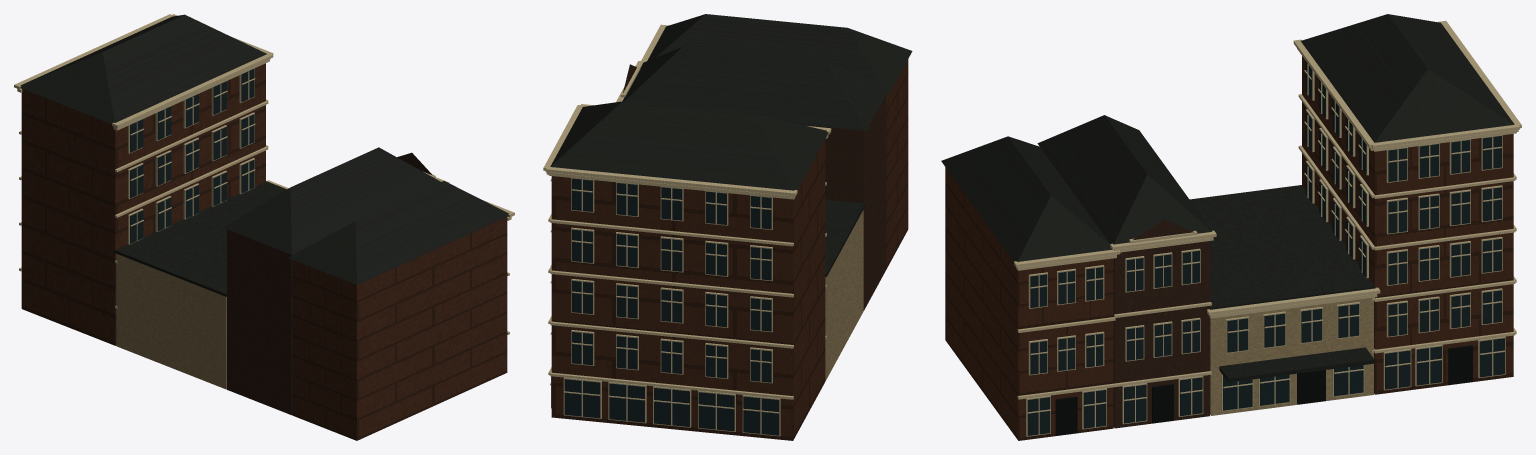
3 renders of one model, left to right at view 1: azimuth 30°, elevation 25°; view 2: azimuth 150°, elevation 25°; view 3: azimuth 270°, elevation 25°, orthographic. The views are drawn at different scales.
Parts seen in each view (by area): view 1: kruiskade-winkelstraat-0, kruiskade-winkelstraat-1, kruiskade-winkelstraat-5, kruiskade-winkelstraat-6, kruiskade-winkelstraat-2, kruiskade-winkelstraat-3; view 2: kruiskade-winkelstraat-0, kruiskade-winkelstraat-1, kruiskade-winkelstraat-3, kruiskade-winkelstraat-2, kruiskade-winkelstraat-5, kruiskade-winkelstraat-6; view 3: kruiskade-winkelstraat-1, kruiskade-winkelstraat-0, kruiskade-winkelstraat-3, kruiskade-winkelstraat-2, kruiskade-winkelstraat-5, kruiskade-winkelstraat-6, kruiskade-winkelstraat-4.
Boxes of the visible parts, left/top/right/bottom form: kruiskade-winkelstraat-0: left=21, top=63, right=507, bottom=440; kruiskade-winkelstraat-1: left=20, top=14, right=508, bottom=296; kruiskade-winkelstraat-5: left=227, top=152, right=432, bottom=415; kruiskade-winkelstraat-6: left=116, top=254, right=226, bottom=389; kruiskade-winkelstraat-2: left=14, top=14, right=514, bottom=334; kruiskade-winkelstraat-3: left=130, top=68, right=254, bottom=243; kruiskade-winkelstraat-0: left=551, top=59, right=908, bottom=440; kruiskade-winkelstraat-1: left=550, top=14, right=912, bottom=276; kruiskade-winkelstraat-3: left=551, top=178, right=779, bottom=435; kruiskade-winkelstraat-2: left=543, top=24, right=831, bottom=436; kruiskade-winkelstraat-5: left=623, top=64, right=885, bottom=310; kruiskade-winkelstraat-6: left=825, top=210, right=863, bottom=380; kruiskade-winkelstraat-1: left=941, top=14, right=1514, bottom=382; kruiskade-winkelstraat-0: left=945, top=56, right=1513, bottom=440; kruiskade-winkelstraat-3: left=1027, top=60, right=1504, bottom=435; kruiskade-winkelstraat-2: left=1014, top=21, right=1521, bottom=436; kruiskade-winkelstraat-5: left=1113, top=219, right=1209, bottom=428; kruiskade-winkelstraat-6: left=1210, top=297, right=1373, bottom=415; kruiskade-winkelstraat-4: left=1055, top=345, right=1472, bottom=435.
Size of the model in its own units: 29.25 by 23.4 by 41.93.
Materials: 7 (7 with a texture image).
